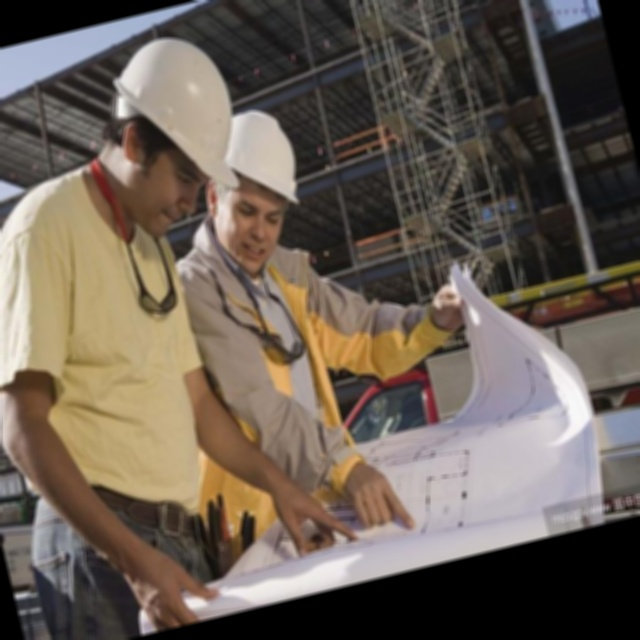Con_Casco: (91, 24, 253, 228), (193, 102, 318, 271)
